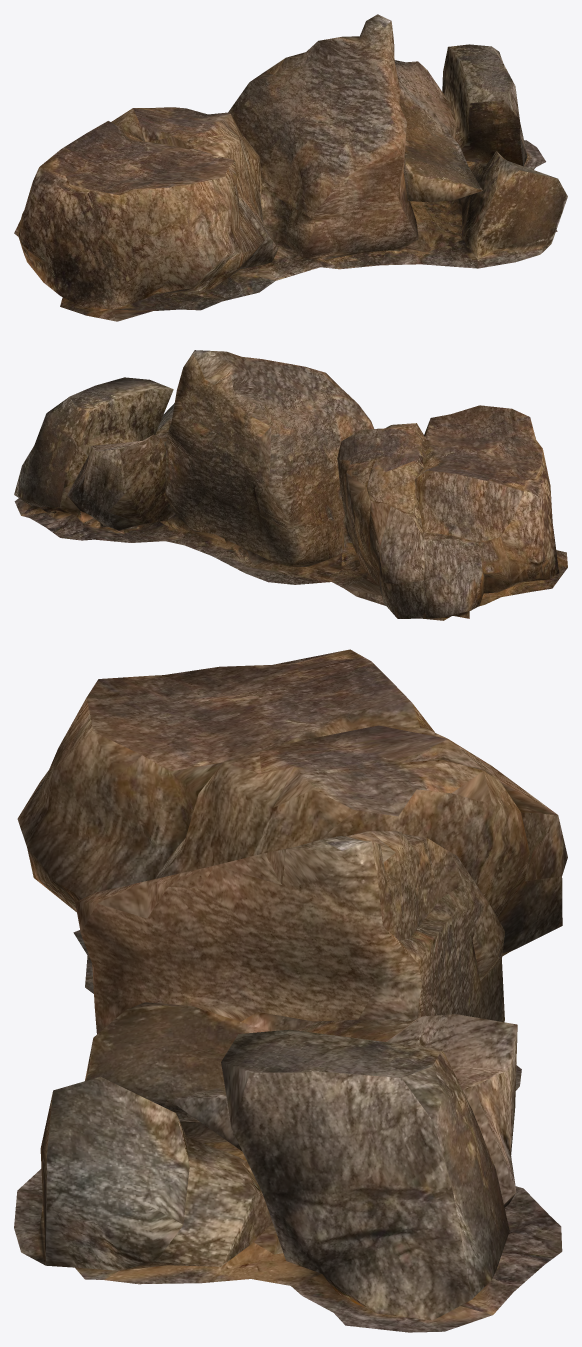
The model's file is prock_b.glb.
The picture shows the model from 3 angles, top to bottom: view 1: azimuth 30°, elevation 25°; view 2: azimuth 150°, elevation 25°; view 3: azimuth 270°, elevation 25°; orthographic projection. The views are drawn at different scales.
Parts seen in each view (by area): view 1: prock_b; view 2: prock_b; view 3: prock_b.
Boxes of the visible parts, x1,y1,x2,y2 form: prock_b: [14, 14, 567, 321]; prock_b: [14, 350, 567, 620]; prock_b: [14, 649, 567, 1332].
Size of the model in its own units: 2.2 by 0.7445 by 1.07.
Materials: 1 (1 with a texture image).
